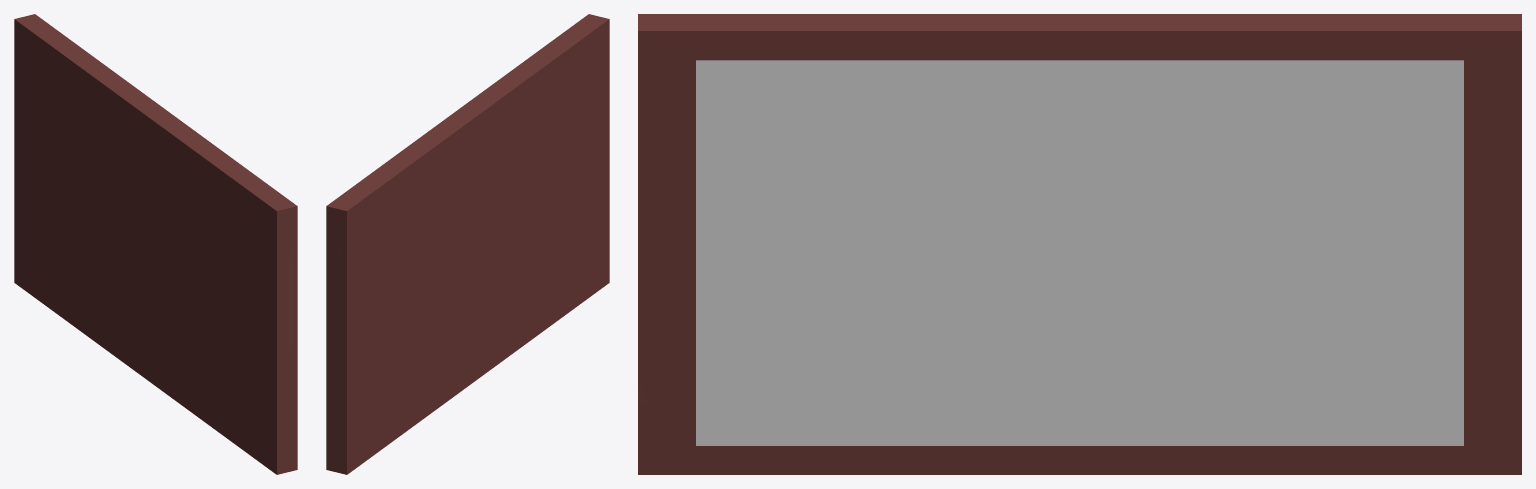
Rendered from paint.glb.
3 views of the same model, side by side, from view 1: azimuth 30°, elevation 25°; view 2: azimuth 150°, elevation 25°; view 3: azimuth 270°, elevation 25° (orthographic). The views are drawn at different scales.
Parts seen in each view (by area): view 1: Paint; view 2: Paint; view 3: Paint.
Boxes of the visible parts, left/top/right/bottom form: Paint: left=14, top=14, right=297, bottom=474; Paint: left=326, top=14, right=609, bottom=474; Paint: left=638, top=14, right=1521, bottom=474.
Size of the model in its own units: 0.0381 by 0.4629 by 0.8352.
2 materials, 1 textured.
